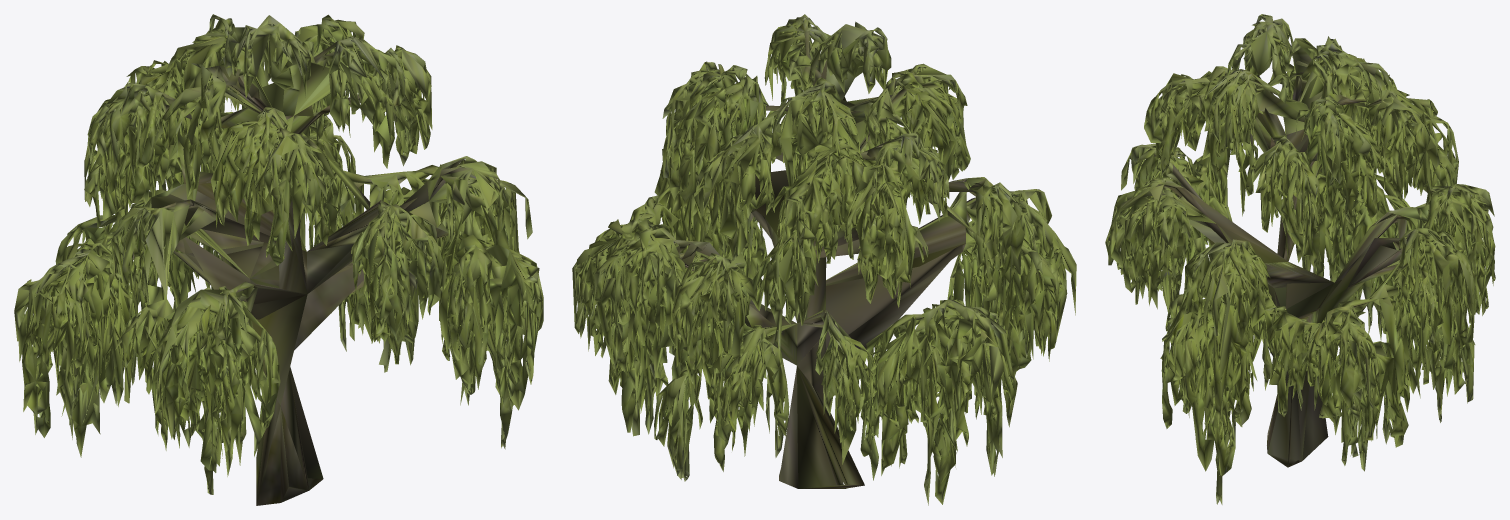
Rendered from willow.glb.
The picture shows the model from 3 angles, left to right: view 1: azimuth 30°, elevation 25°; view 2: azimuth 150°, elevation 25°; view 3: azimuth 270°, elevation 25°; orthographic projection. The views are drawn at different scales.
Parts seen in each view (by area): view 1: willow; view 2: willow; view 3: willow.
Part boxes in pixels (<box>): willow: <box>14,14,543,505</box>; willow: <box>572,14,1076,505</box>; willow: <box>1105,14,1495,504</box>.
Bounding box in the file's own units: 0.9662 × 1 × 0.8447.
1 material, 1 textured.
